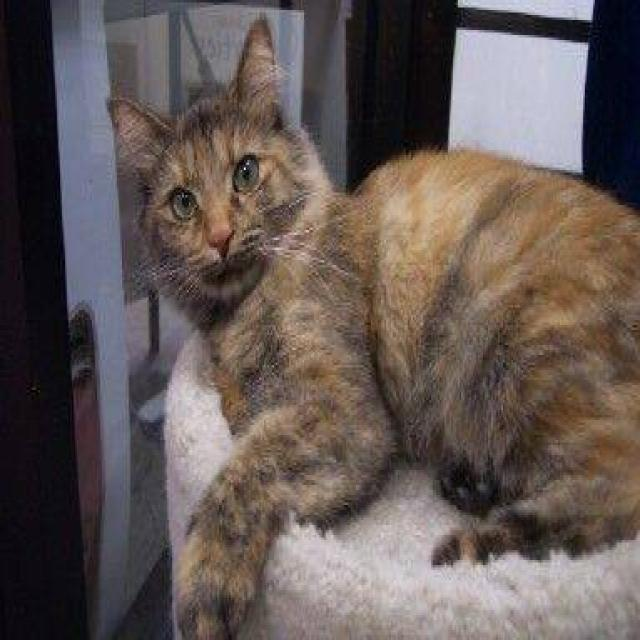cat: (104, 15, 638, 637)
